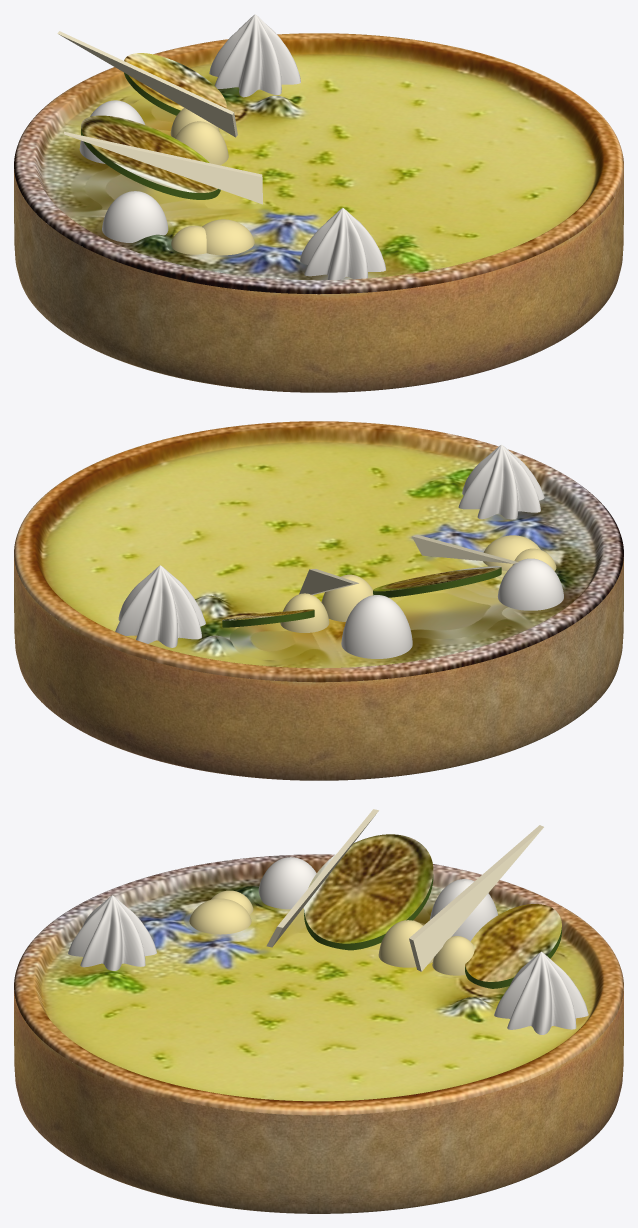
The model's file is ganache-limao.glb.
The picture shows the model from 3 angles, top to bottom: view 1: azimuth 30°, elevation 25°; view 2: azimuth 150°, elevation 25°; view 3: azimuth 270°, elevation 25°; orthographic projection.
Visible parts, largest first — view 1: topo, borda, suspiros, limao, chocolate-branco, creme, casca-limao; view 2: topo, borda, suspiros, creme, chocolate-branco, casca-limao, limao; view 3: topo, borda, limao, suspiros, chocolate-branco, creme, casca-limao.
Boxes of the visible parts, box(x1,y1,x2,y2) form: topo: box(14, 33, 623, 294); borda: box(14, 169, 623, 392); suspiros: box(79, 14, 385, 279); limao: box(81, 53, 226, 192); chocolate-branco: box(57, 31, 262, 204); creme: box(170, 108, 254, 255); casca-limao: box(81, 72, 220, 199); topo: box(14, 421, 623, 682); borda: box(14, 557, 623, 780); suspiros: box(115, 444, 563, 658); creme: box(280, 535, 556, 632); chocolate-branco: box(299, 534, 518, 594); casca-limao: box(222, 567, 501, 627); limao: box(222, 566, 501, 620); topo: box(14, 854, 623, 1115); borda: box(14, 991, 623, 1213); limao: box(304, 834, 561, 981); suspiros: box(68, 857, 588, 1034); chocolate-branco: box(266, 809, 543, 971); creme: box(189, 890, 474, 975); casca-limao: box(304, 874, 561, 988).
Bounding box in the file's own units: 0.2 × 0.0682 × 0.2.
Materials: 8 (3 with a texture image).
